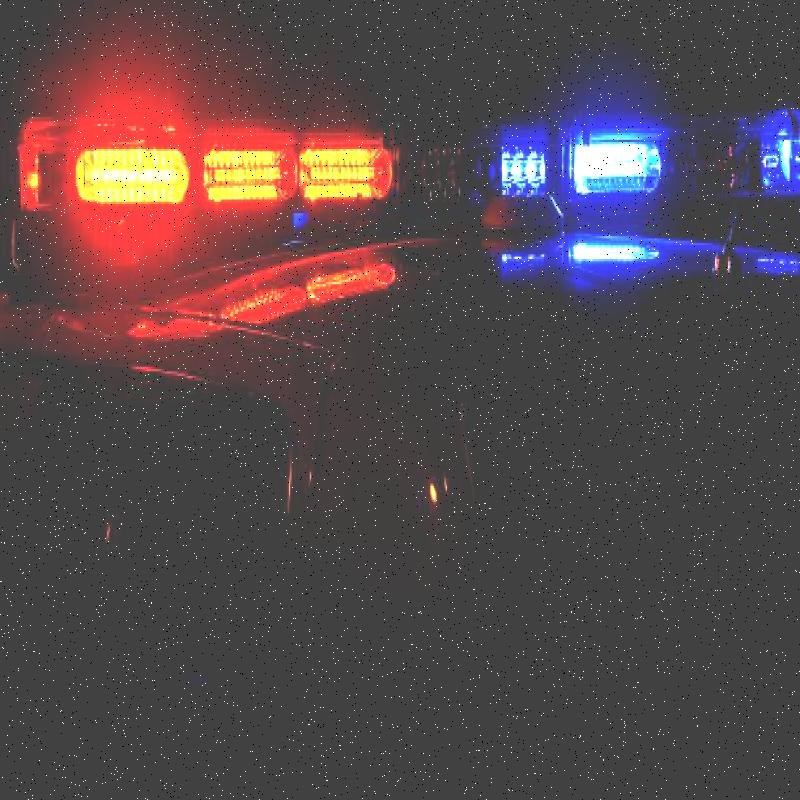AmbulanceSiren: (0, 45, 800, 246)
